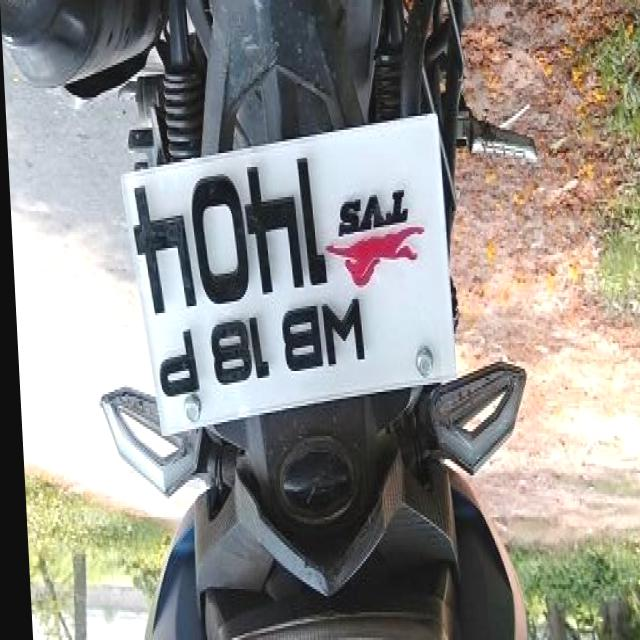0: (185, 171, 247, 309)
1: (292, 154, 329, 289), (245, 315, 266, 380)
4: (126, 180, 193, 314), (239, 161, 301, 295)
8: (206, 320, 247, 386)
b: (274, 304, 320, 373)
p: (150, 328, 196, 398)
w: (317, 300, 364, 369)
